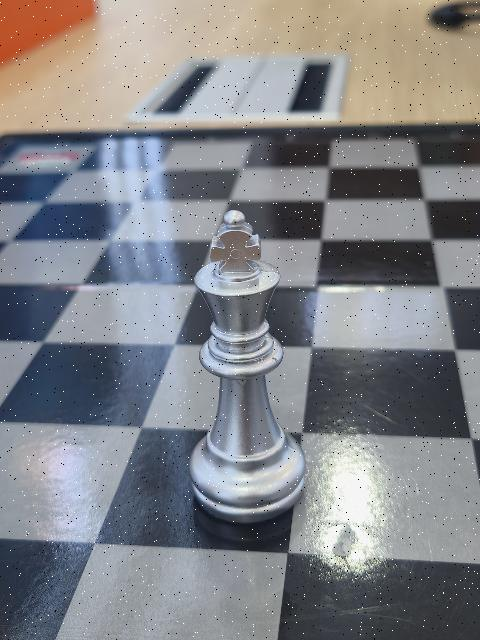white_king: (189, 208, 305, 524)
